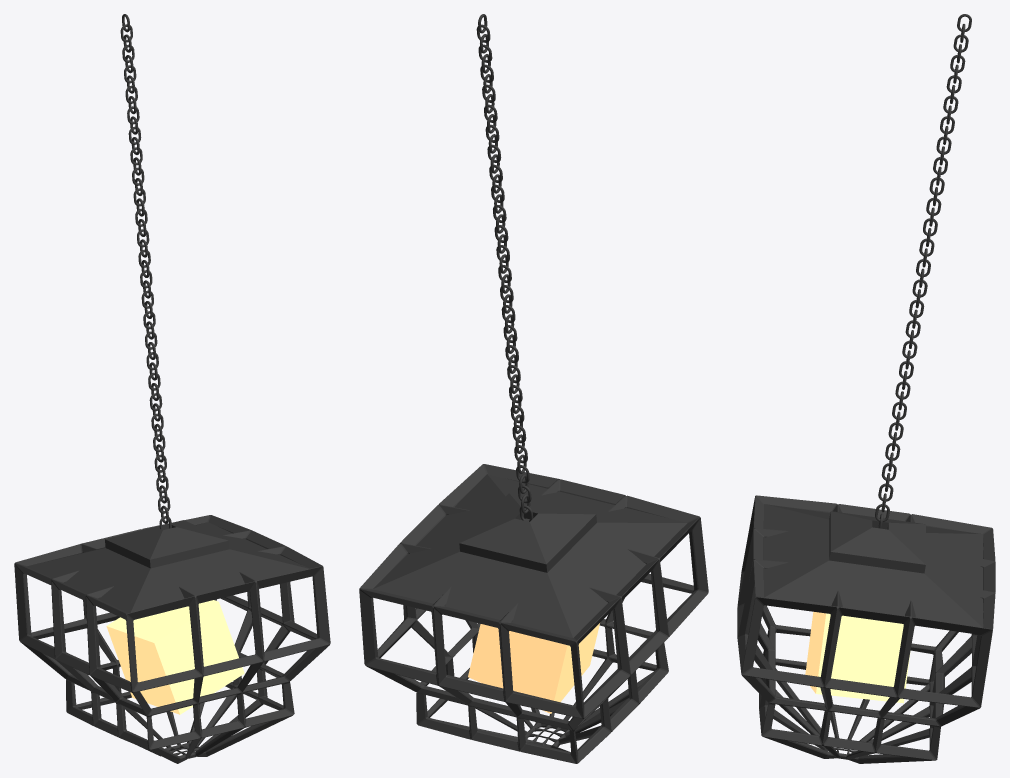
File: ceilingLamp.fbx
The picture shows the model from 3 angles, left to right: view 1: azimuth 30°, elevation 25°; view 2: azimuth 150°, elevation 25°; view 3: azimuth 270°, elevation 25°; orthographic projection. The views are drawn at different scales.
Visible parts, largest first — view 1: Lámpara, Cube, Cadena; view 2: Lámpara, Cube, Cadena; view 3: Lámpara, Cube, Cadena.
Boxes of the visible parts, x1,y1,x2,y2 form: Lámpara: (14,515,330,763); Cube: (106,600,244,714); Cadena: (120,14,171,529); Lámpara: (359,464,708,763); Cube: (468,623,599,713); Cadena: (476,14,533,521); Lámpara: (737,495,995,763); Cube: (805,611,910,703); Cadena: (875,14,971,528).
Bounding box in the file's own units: 95.81 × 313 × 98.74.
